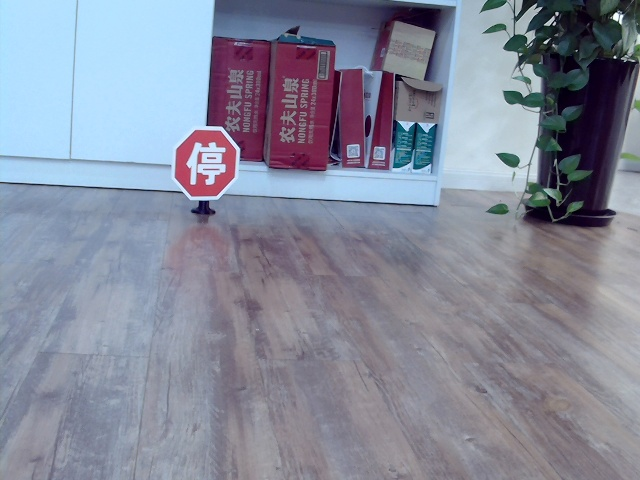stop: (184, 140, 226, 185)
